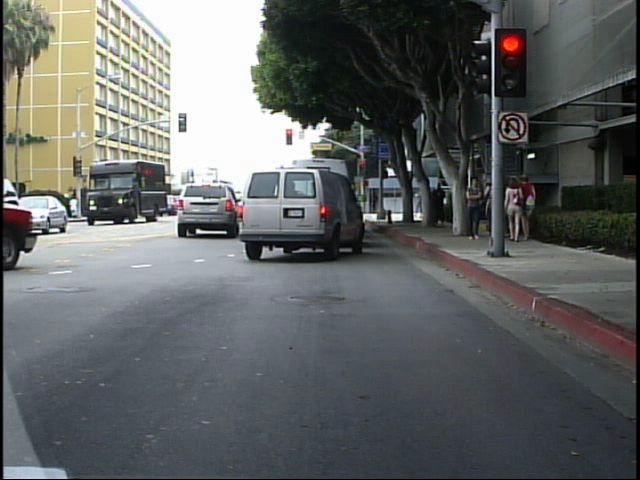person: (504, 170, 528, 245), (521, 171, 543, 244), (467, 175, 487, 242), (432, 175, 447, 230), (64, 190, 81, 222), (412, 185, 424, 217)
